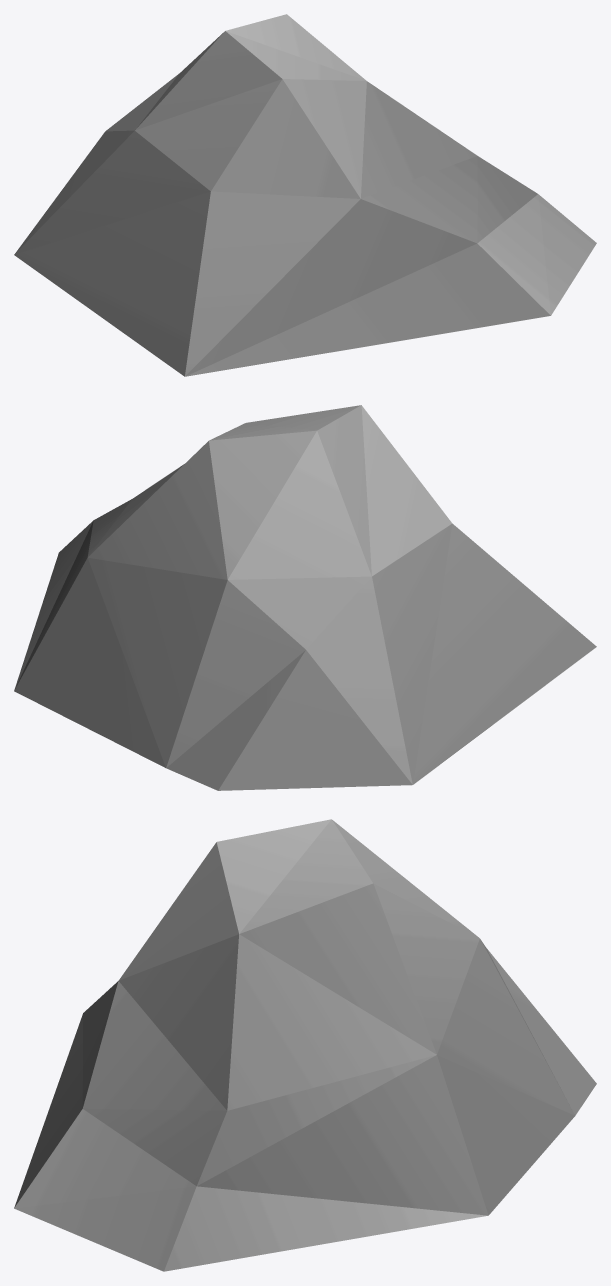
File: GL-Rock-01-LOD3.fbx
3 views of the same model, one above another, from view 1: azimuth 30°, elevation 25°; view 2: azimuth 150°, elevation 25°; view 3: azimuth 270°, elevation 25° (orthographic). The views are drawn at different scales.
Visible parts, largest first — view 1: GL_Rock_01; view 2: GL_Rock_01; view 3: GL_Rock_01.
Boxes of the visible parts, x1=… form: GL_Rock_01: x1=14, y1=14, x2=596, y2=376; GL_Rock_01: x1=14, y1=405, x2=596, y2=790; GL_Rock_01: x1=14, y1=819, x2=596, y2=1271.
Bounding box in the file's own units: 3.02 × 1.5 × 2.85.
